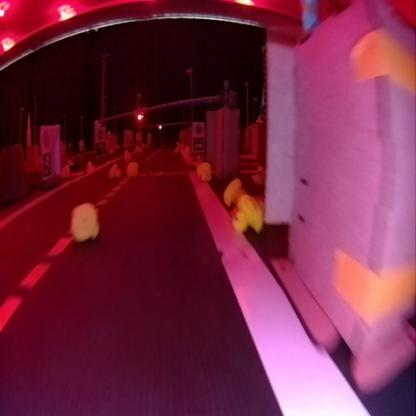Duckie: (231, 193, 262, 232), (70, 201, 98, 241), (223, 178, 245, 202), (196, 161, 211, 182), (107, 163, 121, 178), (126, 161, 138, 178)
